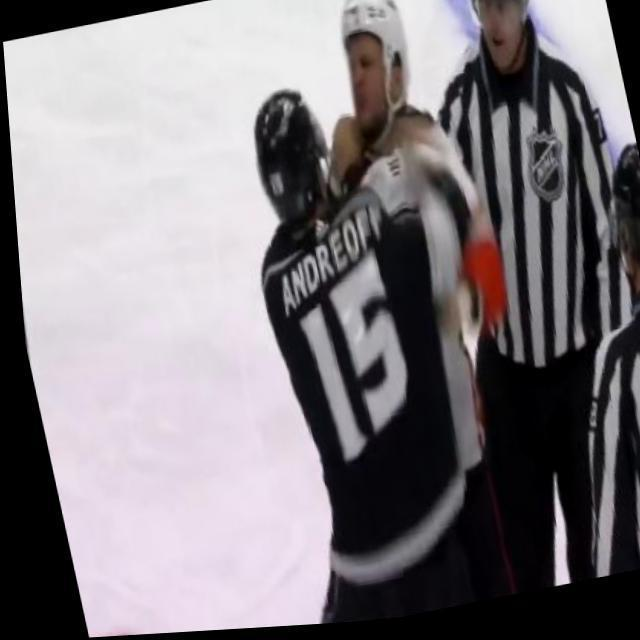fight: (169, 0, 583, 632)
